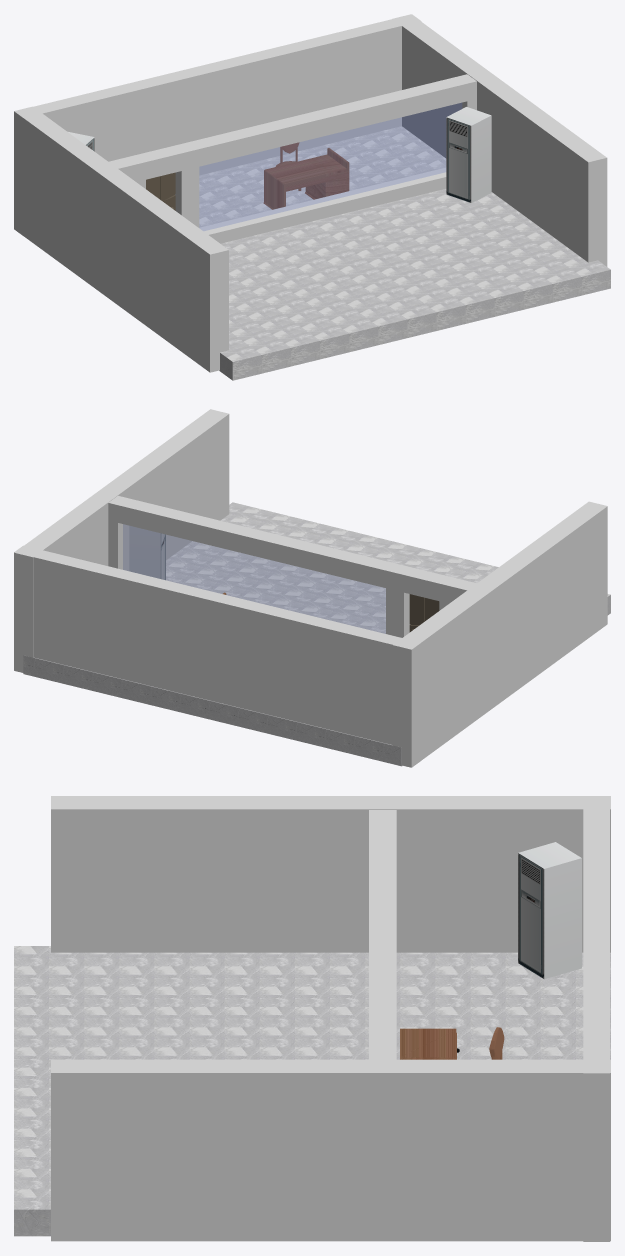
3 renders of one model, top to bottom at view 1: azimuth 30°, elevation 25°; view 2: azimuth 150°, elevation 25°; view 3: azimuth 270°, elevation 25°, orthographic. The views are drawn at different scales.
Parts seen in each view (by area): view 1: 地面, 门; view 2: 地面, 门; view 3: 地面.
Boxes of the visible parts, box(x1,y1,x2,y2) form: 地面: box(14, 14, 610, 380); 门: box(146, 172, 175, 210); 地面: box(14, 409, 610, 767); 门: box(409, 594, 439, 632); 地面: box(14, 796, 610, 1241).
Bounding box in the file's own units: 72.15 × 20.62 × 65.67.
14 materials, 5 textured.
